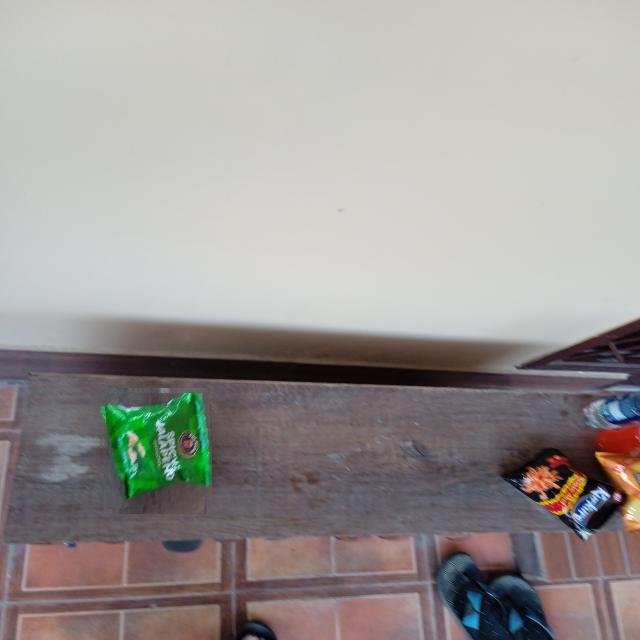Plastic: (98, 393, 212, 509)
